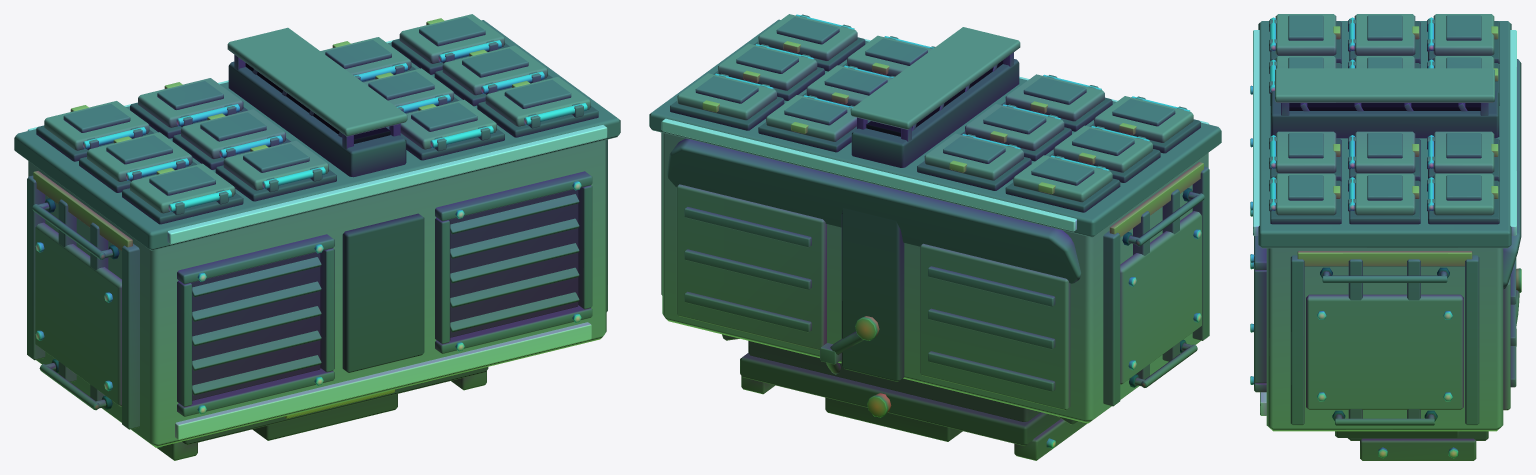
File: back_vls.glb
The picture shows the model from 3 angles, left to right: view 1: azimuth 30°, elevation 25°; view 2: azimuth 150°, elevation 25°; view 3: azimuth 270°, elevation 25°; orthographic projection. The views are drawn at different scales.
Visible parts, largest first — view 1: Body__gunmetal, Body__dark, Body__armor_sub, Body__armor, Body__hazard, Body__chrome, Body__accent, Body__bore; view 2: Body__armor_sub, Body__gunmetal, Body__dark, Body__armor, Body__hazard, Body__accent, Body__chrome, Body__brass, Body__bore; view 3: Body__armor_sub, Body__gunmetal, Body__armor, Body__dark, Body__accent, Body__hazard, Body__chrome, Body__bore.
Part boxes in pixels (bbox=[...]): Body__gunmetal: bbox=[14, 17, 620, 460]; Body__dark: bbox=[36, 38, 598, 445]; Body__armor_sub: bbox=[35, 14, 590, 406]; Body__armor: bbox=[28, 140, 606, 447]; Body__hazard: bbox=[27, 40, 607, 439]; Body__chrome: bbox=[35, 40, 587, 447]; Body__accent: bbox=[33, 18, 529, 418]; Body__bore: bbox=[245, 63, 390, 143]; Body__armor_sub: bbox=[676, 14, 1201, 410]; Body__gunmetal: bbox=[649, 14, 1221, 460]; Body__dark: bbox=[670, 37, 1200, 445]; Body__armor: bbox=[662, 133, 1208, 423]; Body__hazard: bbox=[661, 39, 1209, 231]; Body__accent: bbox=[702, 41, 1203, 237]; Body__chrome: bbox=[715, 14, 1201, 448]; Body__brass: bbox=[855, 316, 891, 417]; Body__bore: bbox=[866, 60, 1003, 136]; Body__armor_sub: bbox=[1275, 14, 1510, 410]; Body__gunmetal: bbox=[1254, 15, 1521, 460]; Body__armor: bbox=[1266, 248, 1503, 431]; Body__dark: bbox=[1270, 21, 1499, 440]; Body__accent: bbox=[1297, 26, 1498, 266]; Body__hazard: bbox=[1253, 30, 1516, 415]; Body__chrome: bbox=[1250, 17, 1458, 458]; Body__bore: bbox=[1289, 103, 1480, 110].
Bounding box in the file's own units: 1.29 × 0.825 × 0.653.
